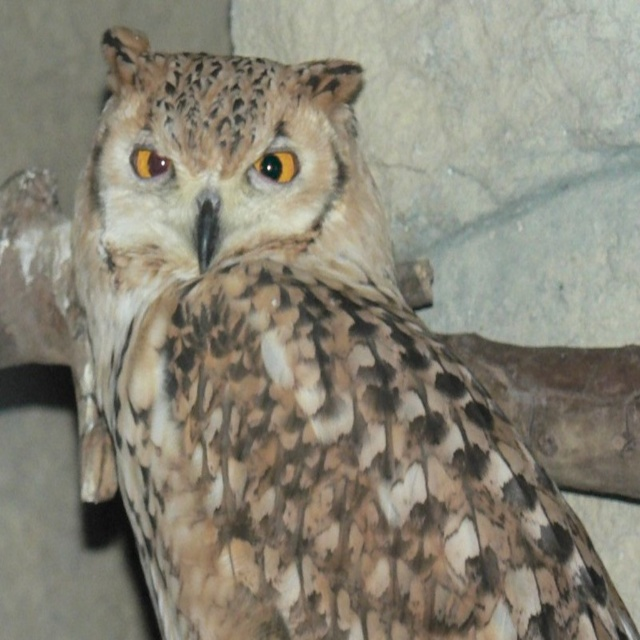Owl: (70, 23, 639, 639)
